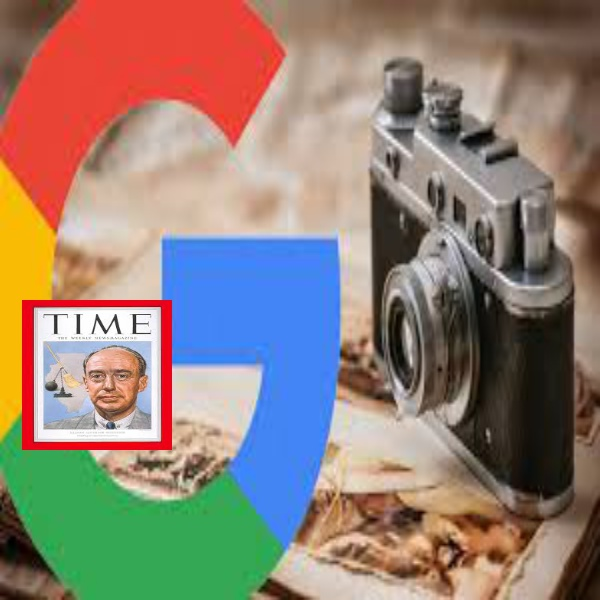time_cover: (26, 295, 168, 446)
